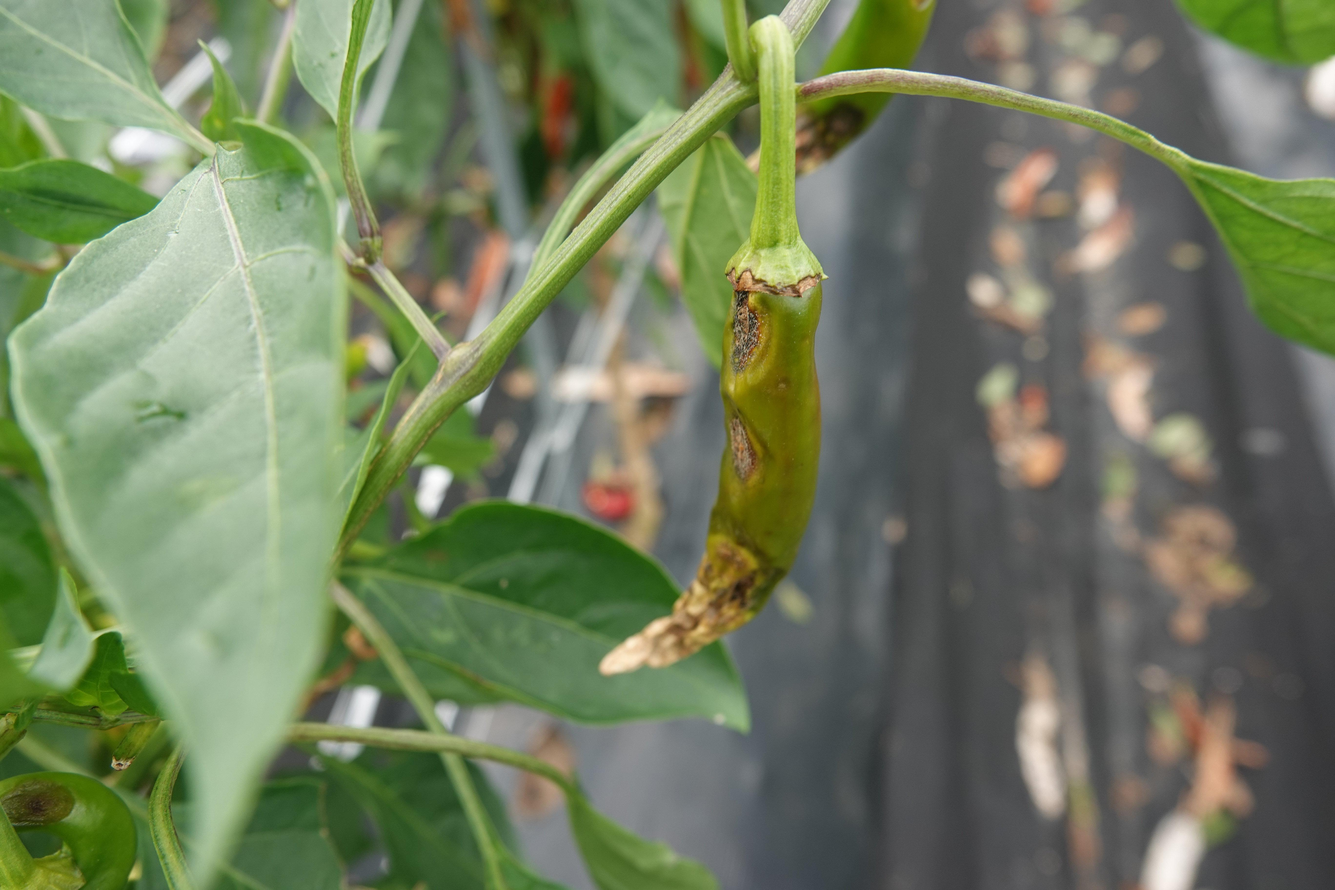Busuk Buah Antraknosa: (596, 225, 826, 692)
Daun Cabai Sehat: (0, 123, 359, 890), (342, 494, 758, 740)
